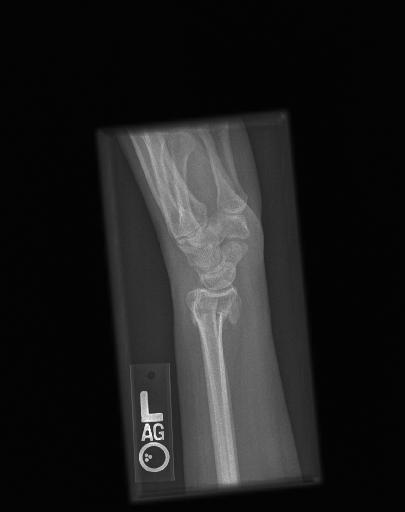fractured: (176, 296, 250, 332)
